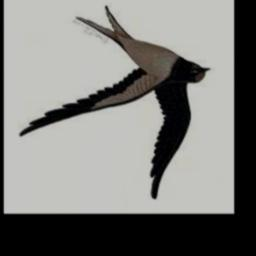Swallow: (19, 7, 212, 200)
